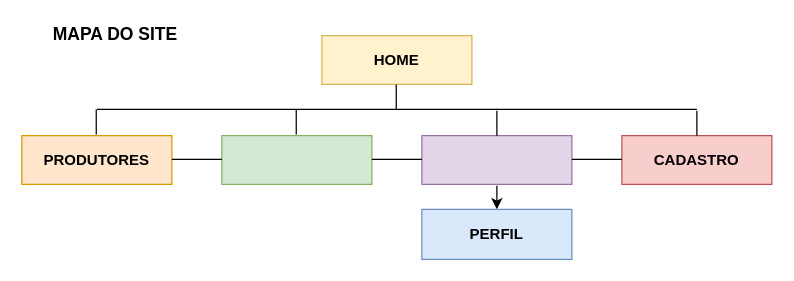
Some shapes in this 794 by 281 pixel diagram are drawn without their labels. Each missing label, with the centre of its shape:
"LOGIN" goes at [496,159].
"RECEITAS" goes at [296,159].
